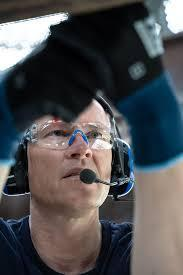Ear_protector: (3, 131, 38, 203), (113, 137, 137, 209)
Visor: (29, 115, 119, 157)
